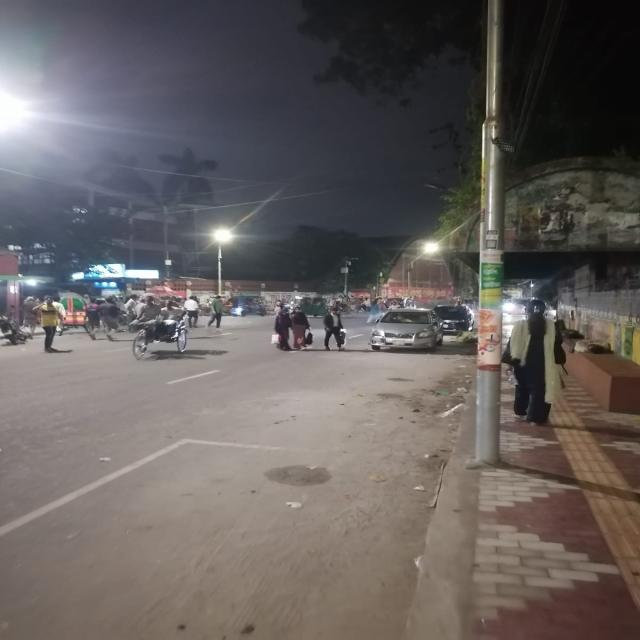person: (35, 296, 62, 353), (323, 306, 345, 351), (98, 297, 119, 341), (291, 306, 311, 350), (274, 308, 292, 351), (207, 295, 223, 330)
